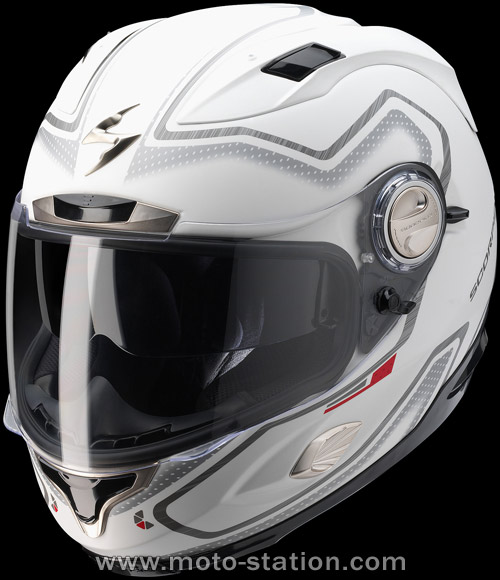helmet: (26, 19, 470, 534)
